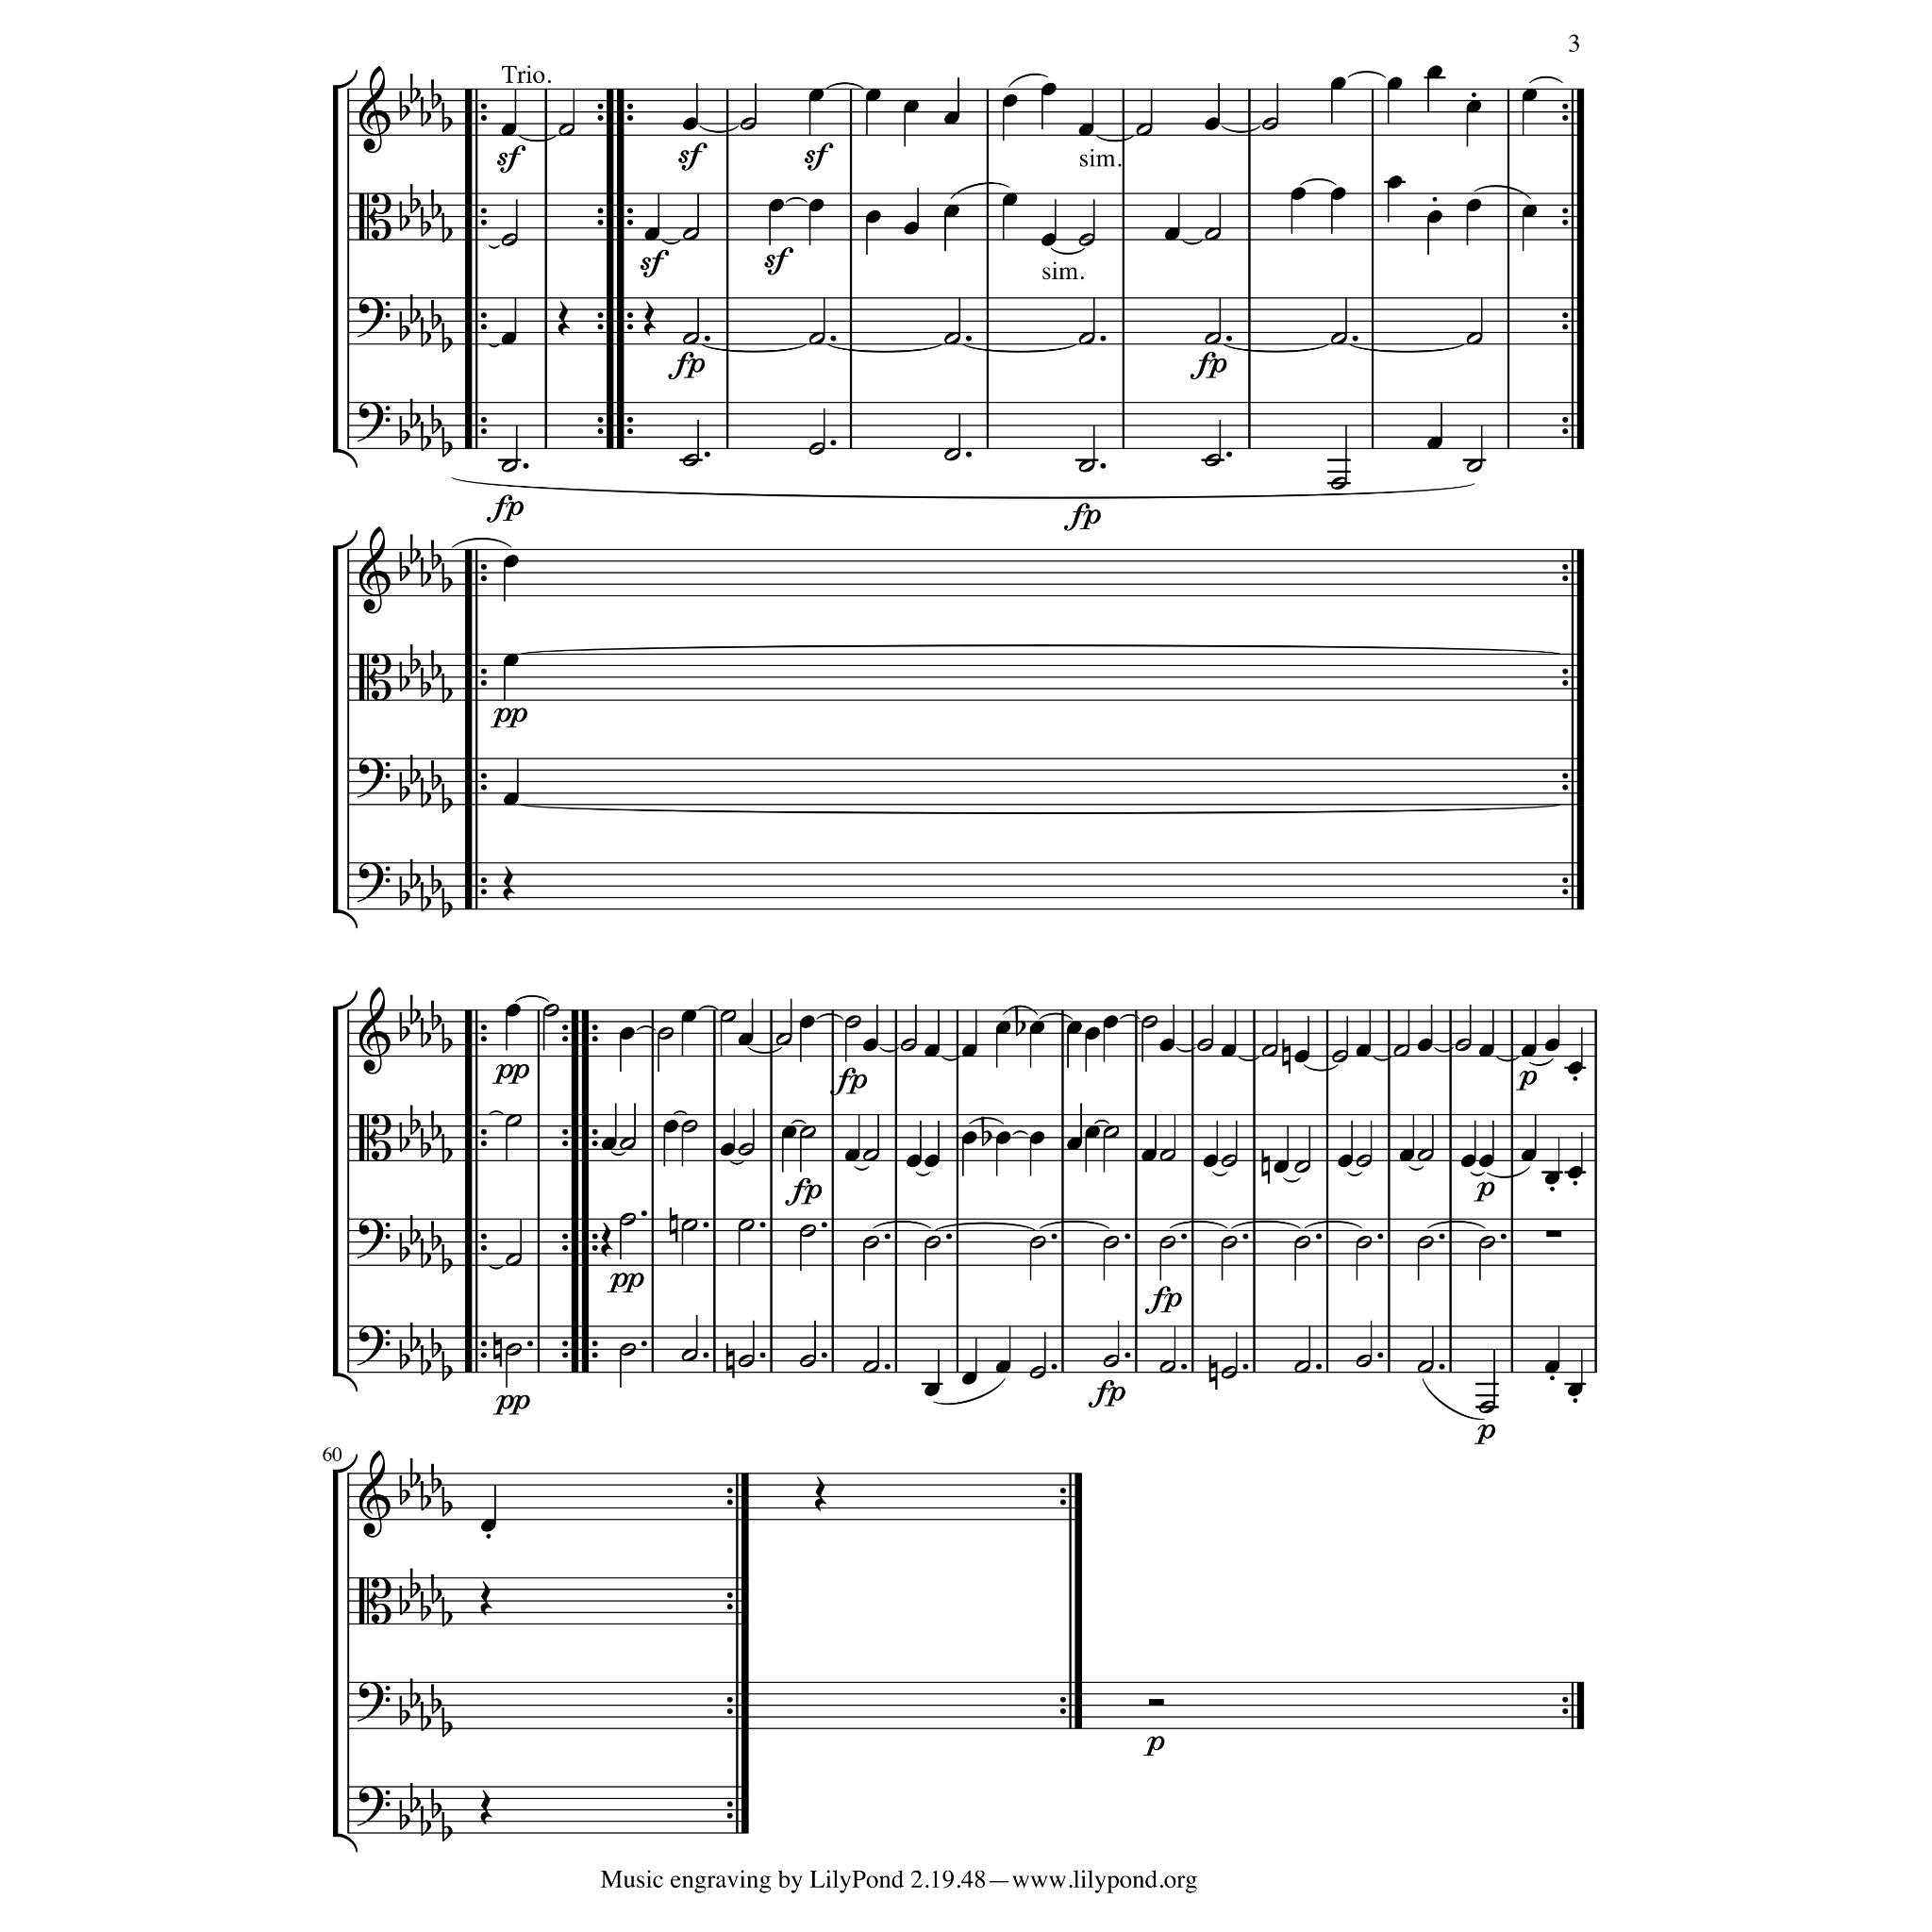fClef: (357, 402, 391, 443), (357, 862, 391, 904), (357, 1681, 391, 1723), (357, 298, 391, 338), (357, 758, 391, 798), (357, 1219, 391, 1258), (357, 1326, 391, 1366), (357, 1787, 391, 1826)
gClef: (358, 66, 391, 155), (358, 526, 391, 615), (358, 987, 391, 1075), (358, 1450, 391, 1539)
noteheadBlack: (1158, 1038, 1175, 1053), (1543, 1038, 1560, 1053), (1523, 204, 1538, 219), (943, 204, 958, 219), (1294, 1049, 1309, 1064), (1417, 1038, 1432, 1053), (862, 1038, 877, 1053), (1077, 124, 1094, 137), (1204, 118, 1221, 131), (1426, 66, 1443, 79), (1426, 210, 1443, 224), (1426, 437, 1443, 450), (643, 227, 660, 241), (681, 118, 698, 131), (500, 124, 517, 137), (500, 332, 517, 345), (1002, 94, 1019, 108), (1002, 193, 1019, 207), (808, 199, 824, 212), (768, 199, 785, 212), (808, 89, 824, 102), (502, 654, 519, 667), (502, 555, 519, 568), (502, 792, 519, 806), (1355, 1044, 1372, 1058), (1202, 1155, 1219, 1168), (1543, 1360, 1560, 1374), (1543, 1172, 1560, 1185), (1398, 1149, 1415, 1162), (662, 1120, 679, 1133), (798, 1015, 815, 1028), (1102, 1015, 1119, 1028), (719, 1143, 736, 1157), (600, 1137, 617, 1150), (1028, 1021, 1045, 1034), (1028, 1131, 1045, 1144), (1066, 1137, 1083, 1150), (1066, 1021, 1083, 1034), (479, 1519, 496, 1532), (1291, 187, 1306, 200), (1330, 77, 1345, 91), (1330, 187, 1345, 200), (1164, 227, 1179, 241), (1387, 175, 1402, 189), (1523, 89, 1538, 102), (1466, 100, 1481, 113), (1466, 199, 1481, 212), (1387, 77, 1402, 91), (943, 111, 958, 125), (904, 100, 919, 113), (904, 222, 919, 235), (1041, 83, 1057, 96), (1041, 234, 1057, 247), (866, 89, 881, 102), (866, 210, 881, 224), (1274, 1160, 1289, 1174), (1338, 1155, 1353, 1168), (1141, 1149, 1157, 1162), (1221, 1044, 1236, 1058), (1521, 1149, 1536, 1162), (1521, 1044, 1536, 1058), (1568, 1383, 1583, 1396), (1568, 1166, 1583, 1179), (1568, 1061, 1583, 1074), (1460, 1155, 1475, 1168), (1479, 1044, 1494, 1058), (1479, 1155, 1494, 1168), (681, 1009, 696, 1023), (781, 1125, 796, 1139), (738, 1033, 753, 1046), (506, 1004, 521, 1017), (619, 1027, 634, 1041), (961, 1044, 976, 1058), (961, 1131, 976, 1144), (961, 1372, 976, 1385), (924, 1155, 940, 1168), (907, 1155, 922, 1168), (924, 1044, 940, 1058), (924, 1383, 940, 1396), (996, 1021, 1011, 1034), (996, 1131, 1011, 1144), (996, 1360, 1011, 1374), (1085, 1125, 1100, 1139), (1085, 1027, 1100, 1041), (844, 1149, 859, 1162)
noteheadHalf: (1331, 1049, 1348, 1064), (505, 1113, 522, 1128), (1261, 118, 1278, 131), (1330, 332, 1347, 345), (1330, 477, 1347, 491), (1136, 124, 1153, 137), (1078, 234, 1095, 247), (1078, 332, 1095, 345), (1078, 459, 1095, 473), (1205, 227, 1222, 241), (1205, 332, 1222, 345), (1205, 454, 1222, 467), (1466, 459, 1483, 473), (1466, 332, 1483, 345), (740, 118, 757, 131), (682, 227, 699, 241), (682, 332, 699, 345), (682, 454, 699, 467), (558, 124, 575, 137), (501, 234, 518, 247), (501, 459, 518, 473), (943, 332, 960, 345), (943, 448, 960, 461), (808, 332, 825, 345), (808, 442, 825, 456), (1294, 1360, 1311, 1374), (1294, 1236, 1311, 1249), (1294, 1160, 1311, 1174), (1261, 1044, 1278, 1058), (1356, 1155, 1373, 1168), (1356, 1236, 1373, 1249), (1356, 1355, 1373, 1368), (1158, 1149, 1175, 1162), (1158, 1236, 1175, 1249), (1158, 1360, 1175, 1374), (1103, 1125, 1120, 1139), (1103, 1236, 1120, 1249), (1103, 1355, 1120, 1368), (1141, 1015, 1158, 1028), (1221, 1155, 1238, 1168), (1221, 1236, 1238, 1249), (1221, 1366, 1238, 1379), (1197, 1039, 1214, 1052), (1417, 1149, 1434, 1162), (1417, 1360, 1434, 1374), (1417, 1236, 1434, 1249), (1393, 1044, 1410, 1058), (1478, 1236, 1495, 1249), (1478, 1401, 1495, 1414), (1455, 1039, 1472, 1052), (720, 1010, 737, 1024), (681, 1349, 698, 1362), (681, 1219, 698, 1232), (681, 1120, 698, 1133), (775, 1033, 792, 1046), (738, 1355, 755, 1368), (738, 1219, 755, 1232), (738, 1143, 755, 1157), (657, 1027, 674, 1041), (505, 1343, 522, 1357), (505, 1253, 522, 1266), (542, 1004, 559, 1017), (619, 1343, 636, 1357), (619, 1213, 636, 1226), (619, 1137, 636, 1150), (924, 1236, 941, 1249), (1029, 1236, 1046, 1249), (1029, 1366, 1046, 1379), (844, 1015, 861, 1028), (799, 1125, 816, 1139), (799, 1224, 816, 1238), (799, 1355, 816, 1368), (900, 1039, 917, 1052), (862, 1149, 879, 1162), (862, 1236, 879, 1249), (862, 1360, 879, 1374)
restHalf: (1147, 1699, 1164, 1707)
restQuarter: (502, 866, 515, 902), (600, 1222, 613, 1257), (479, 1790, 492, 1825), (479, 1580, 492, 1616), (643, 302, 657, 336), (815, 1476, 826, 1512), (558, 302, 570, 336)
restWhole: (1545, 1230, 1562, 1238)
